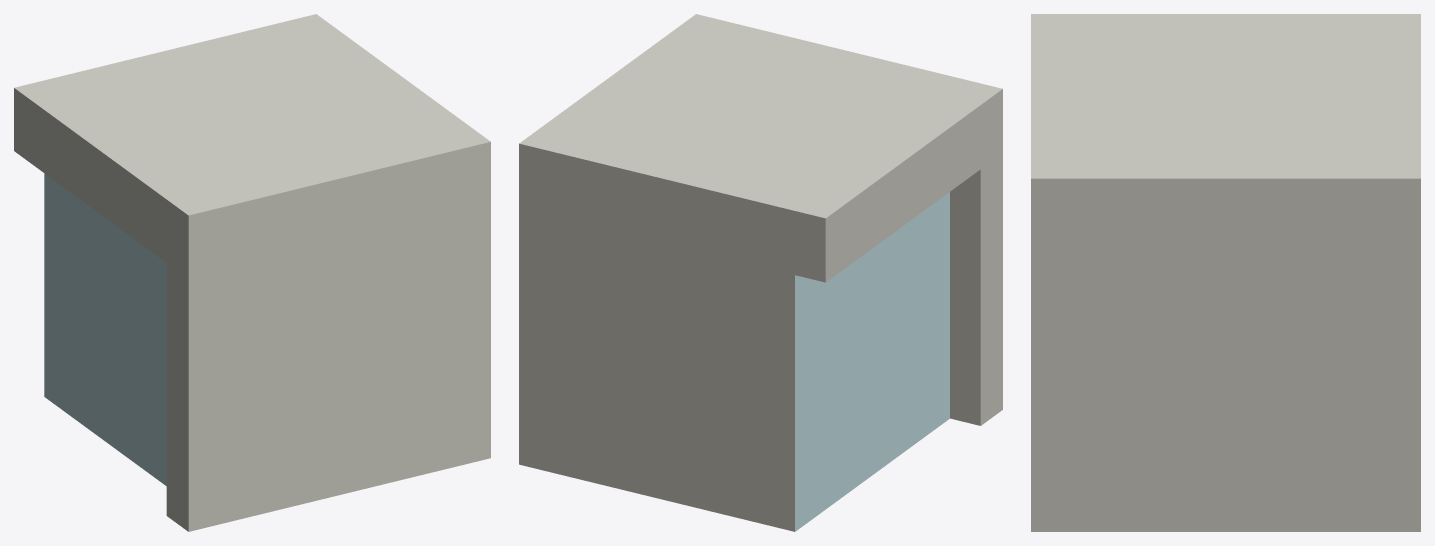
Rendered from Building Story 31.fbx.
3 views of the same model, side by side, from view 1: azimuth 30°, elevation 25°; view 2: azimuth 150°, elevation 25°; view 3: azimuth 270°, elevation 25° (orthographic). The views are drawn at different scales.
Parts seen in each view (by area): view 1: Building Story 31; view 2: Building Story 31; view 3: Building Story 31.
Boxes of the visible parts, left/top/right/bottom form: Building Story 31: left=14, top=14, right=490, bottom=531; Building Story 31: left=519, top=14, right=1002, bottom=531; Building Story 31: left=1031, top=14, right=1420, bottom=531.
Bounding box in the file's own units: 1 × 1 × 1.
